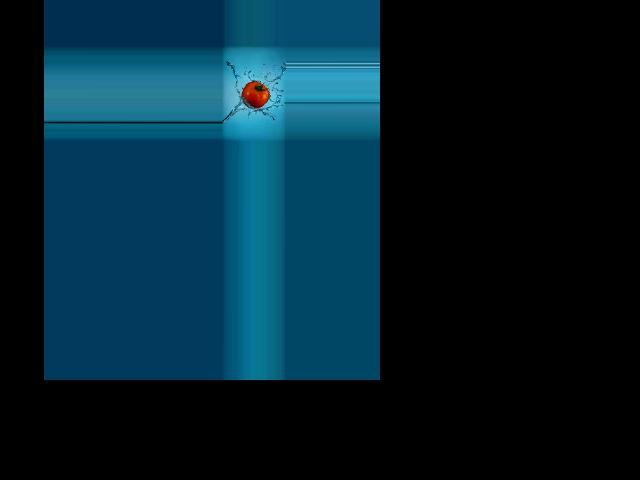tomato: (242, 81, 269, 108)
